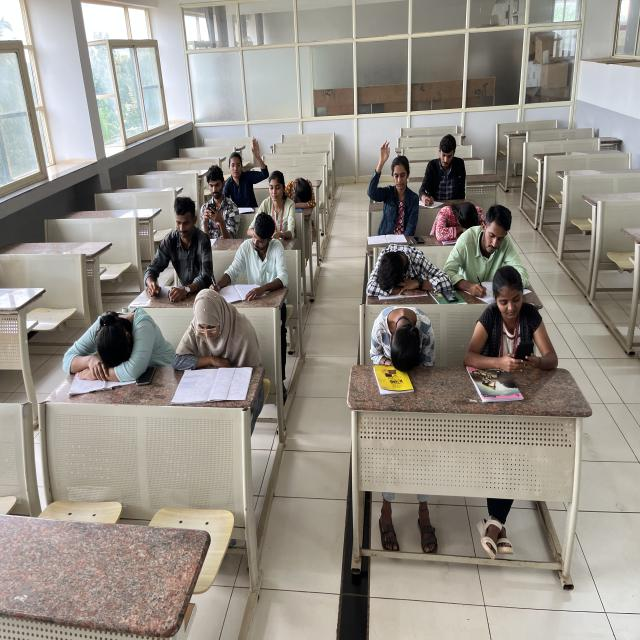Hand Rising: (366, 135, 419, 225), (221, 138, 267, 205)
Reading: (171, 292, 257, 398)
Sleeping: (57, 304, 158, 373), (366, 303, 440, 367), (365, 247, 447, 298), (434, 198, 488, 239), (286, 176, 316, 211)
Using Phone: (470, 266, 562, 373), (147, 193, 218, 300), (197, 166, 240, 232)
Writing: (450, 202, 534, 300), (210, 216, 288, 302), (416, 133, 467, 205), (256, 170, 297, 250)
